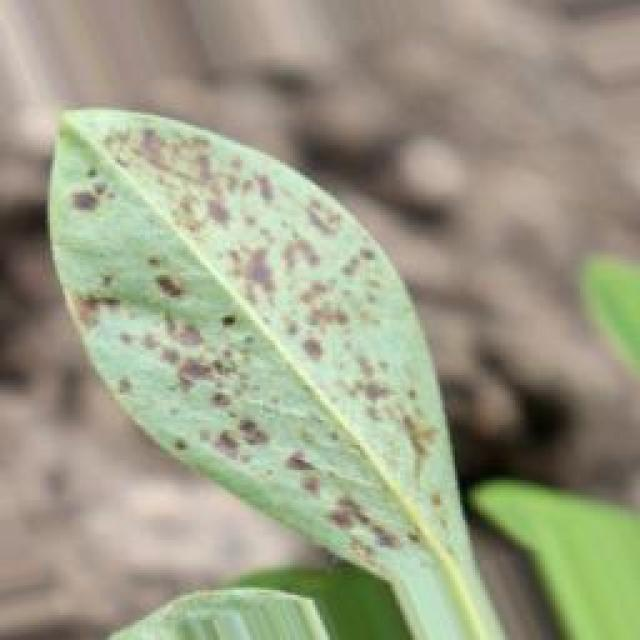Whitefly: (39, 80, 471, 590)
